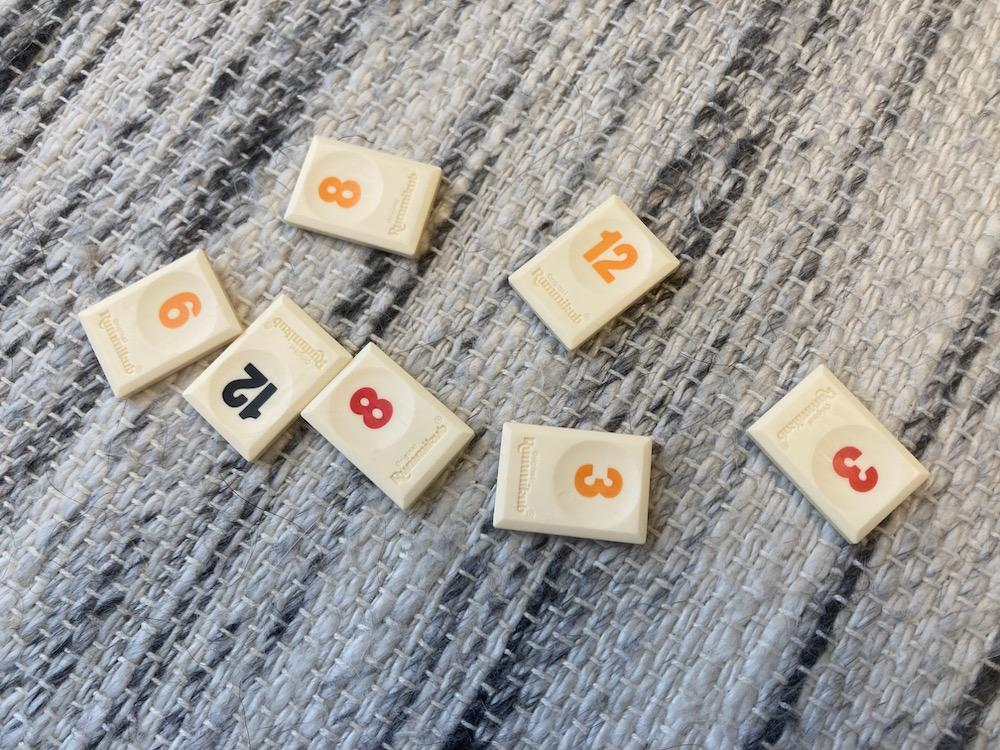black_12: (184, 295, 352, 461)
orange_12: (510, 195, 680, 350)
orange_3: (495, 422, 652, 543)
orange_6: (80, 250, 242, 398)
orange_8: (285, 137, 441, 258)
red_3: (748, 365, 930, 543)
red_8: (303, 344, 473, 510)
